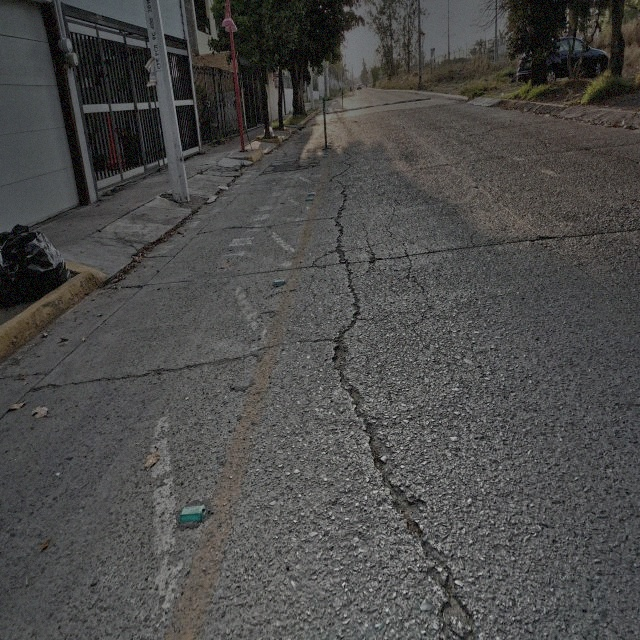pothole: (331, 338, 349, 377)
